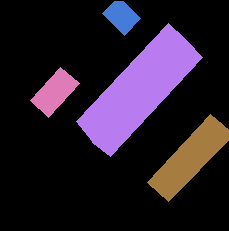parkingspot: (76, 23, 186, 141), (92, 40, 202, 156), (147, 114, 229, 201), (30, 67, 79, 117), (102, 1, 140, 35)
